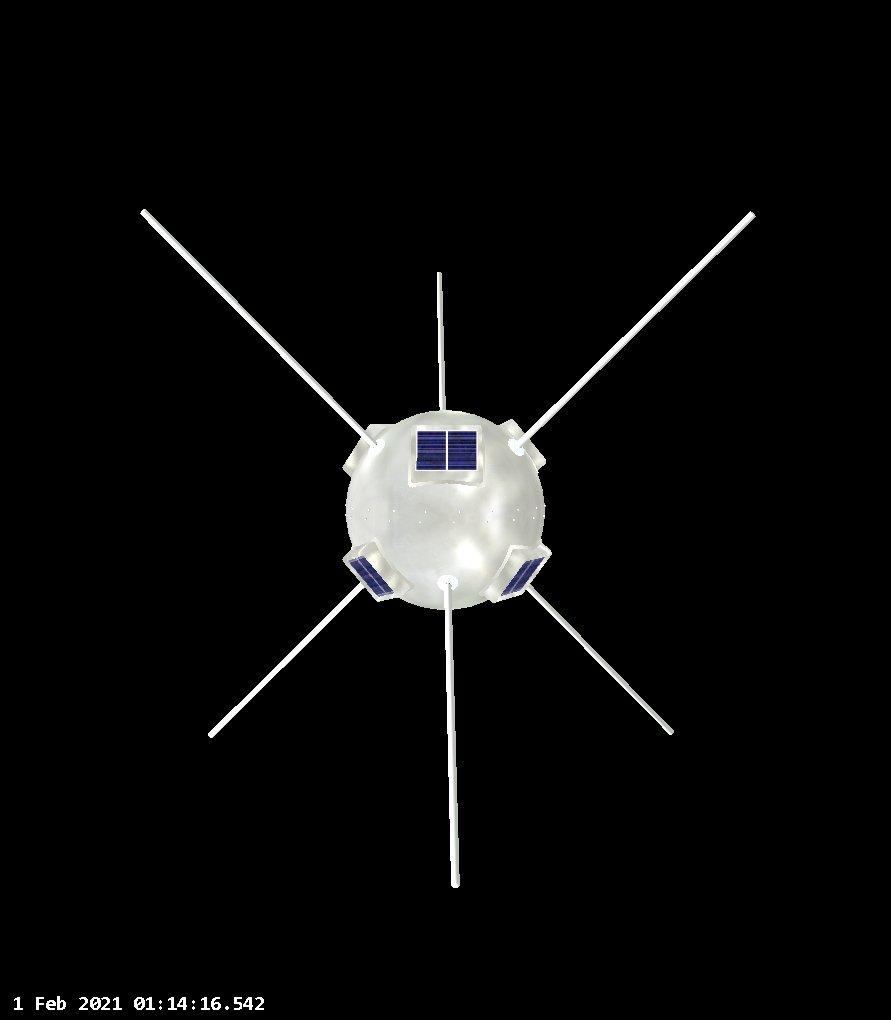antenna: (130, 198, 385, 456), (503, 205, 759, 459), (198, 574, 369, 746), (516, 576, 677, 741), (430, 560, 465, 889), (430, 263, 454, 421)
body: (335, 409, 553, 614)
solar: (410, 427, 480, 470), (349, 551, 398, 599), (495, 551, 543, 596)
